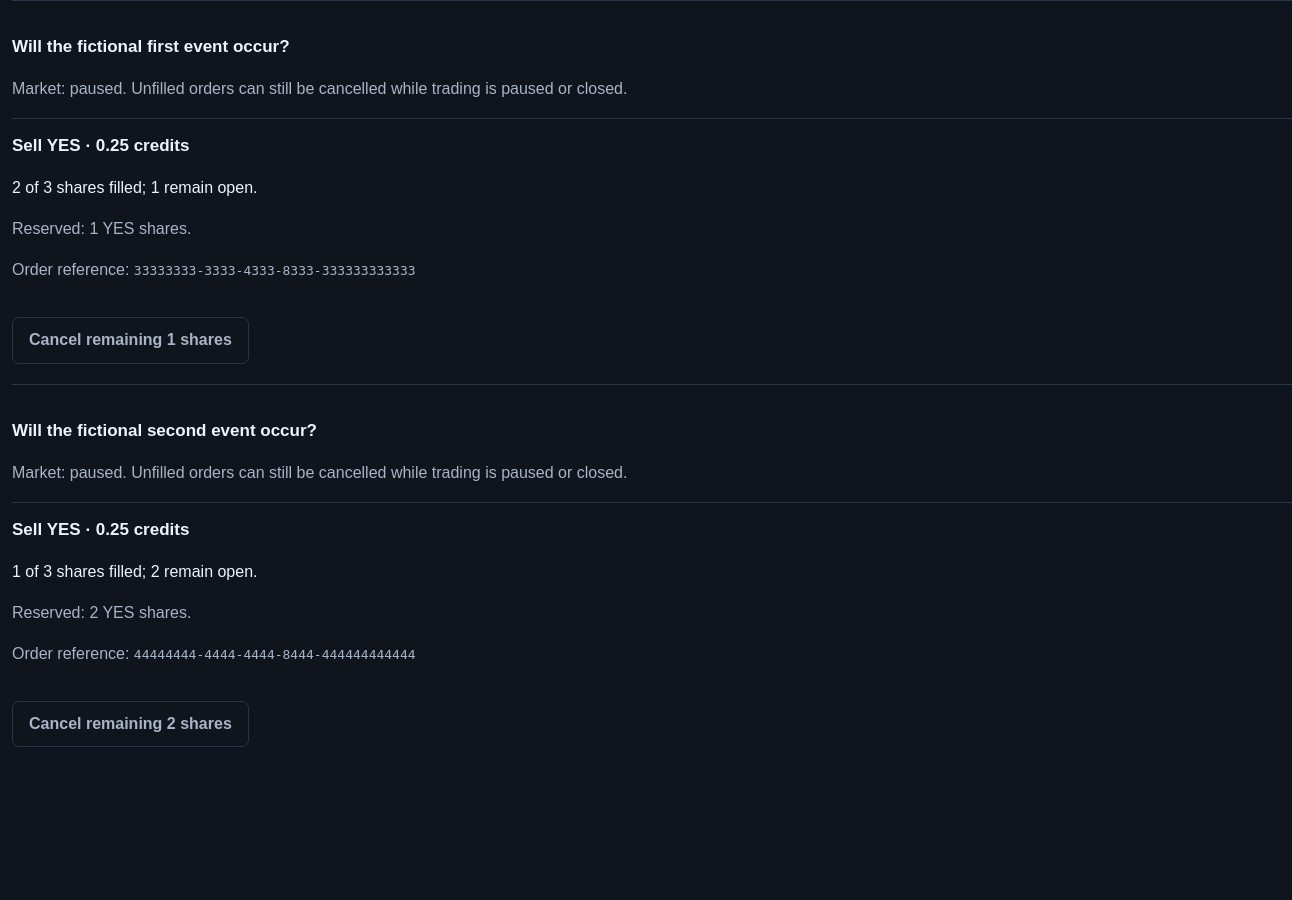
Test: portfolio order management › groups markets and reviews the correct order before cancelling the remainder
Expected: the link to "/markets/first-market" is shown, x1=12 y1=37 x2=290 y2=56
Expected: the link to "/markets/second-market" is shown, x1=12 y1=421 x2=317 y2=440
Click the button "Cancel remaining 2 shares": (130,724) x1=12 y1=700 x2=249 y2=747
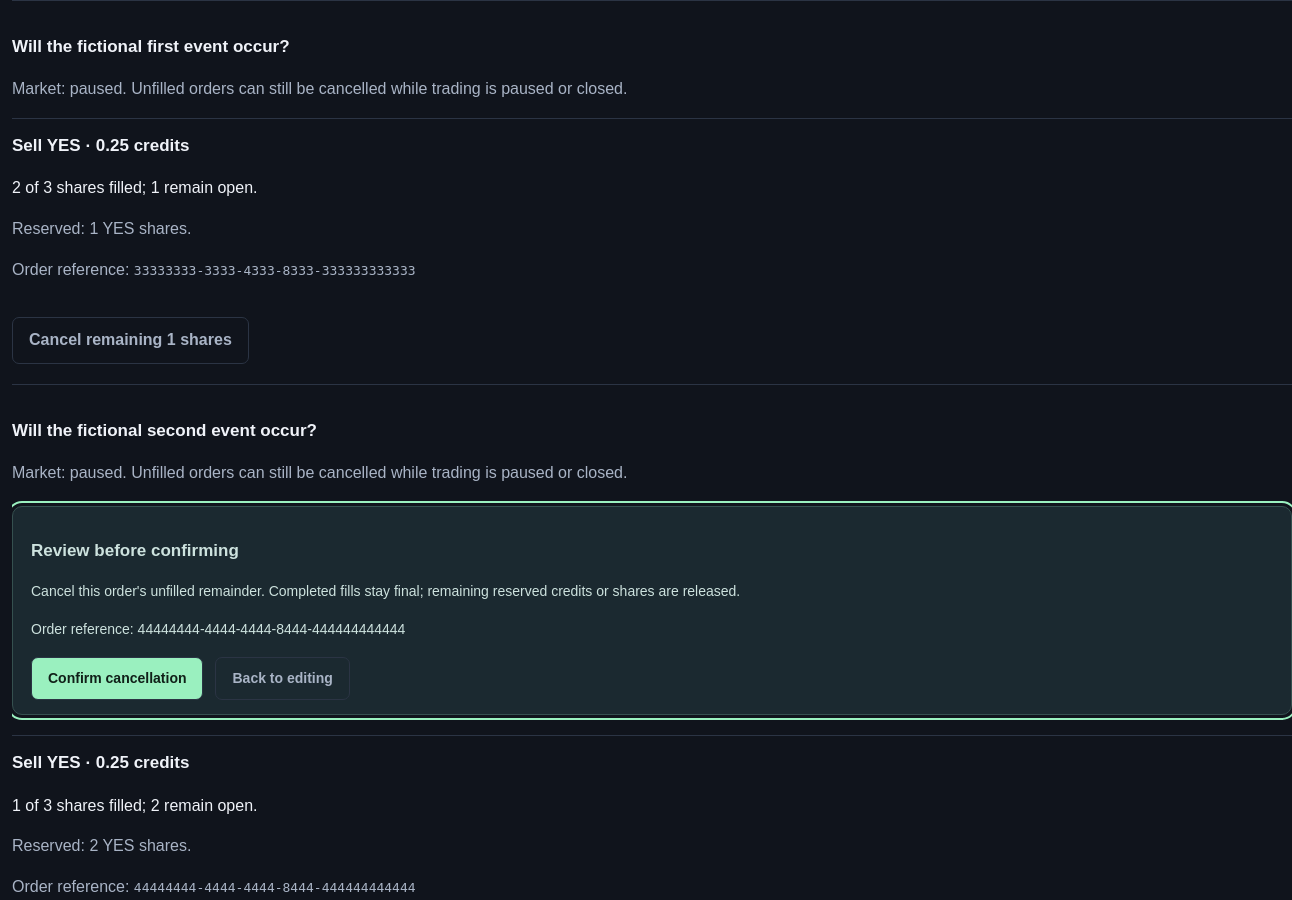
Click the button "Confirm cancellation": (117,678) x1=31 y1=656 x2=204 y2=700
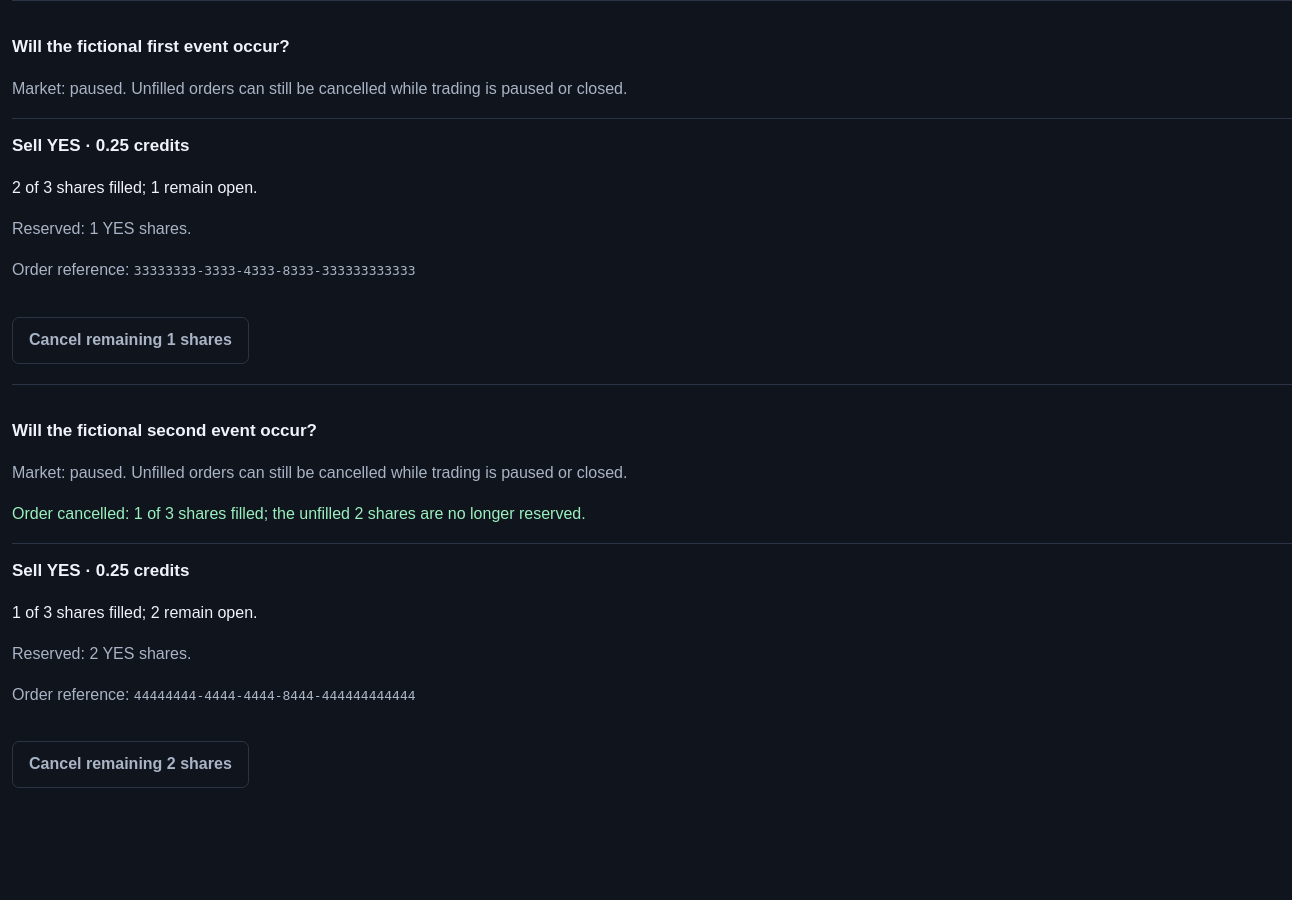
Expected: the text "unfilled 2 shares are no longer reserved" is shown, x1=12 y1=505 x2=586 y2=522
